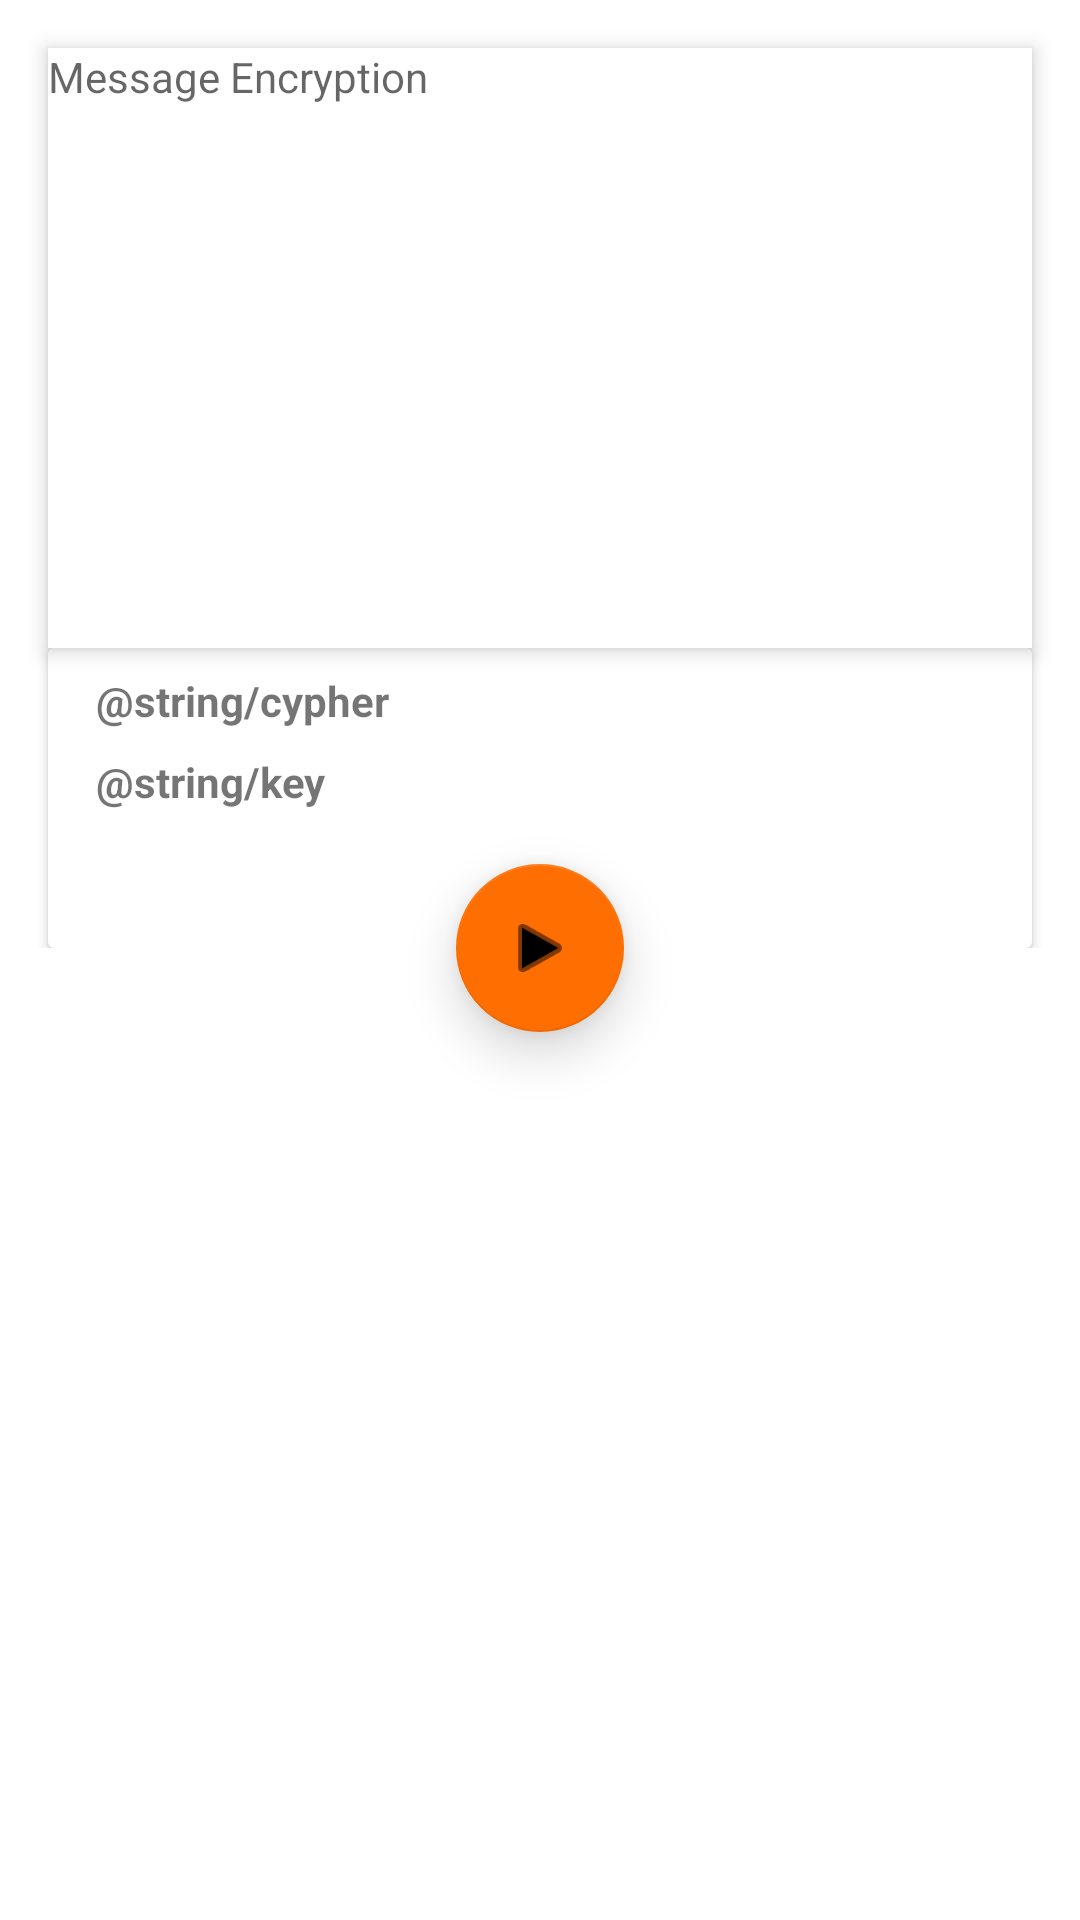

Named icons in this screenshot (1080 × 1920) and their centers, (x,y):
play: (540,948)
